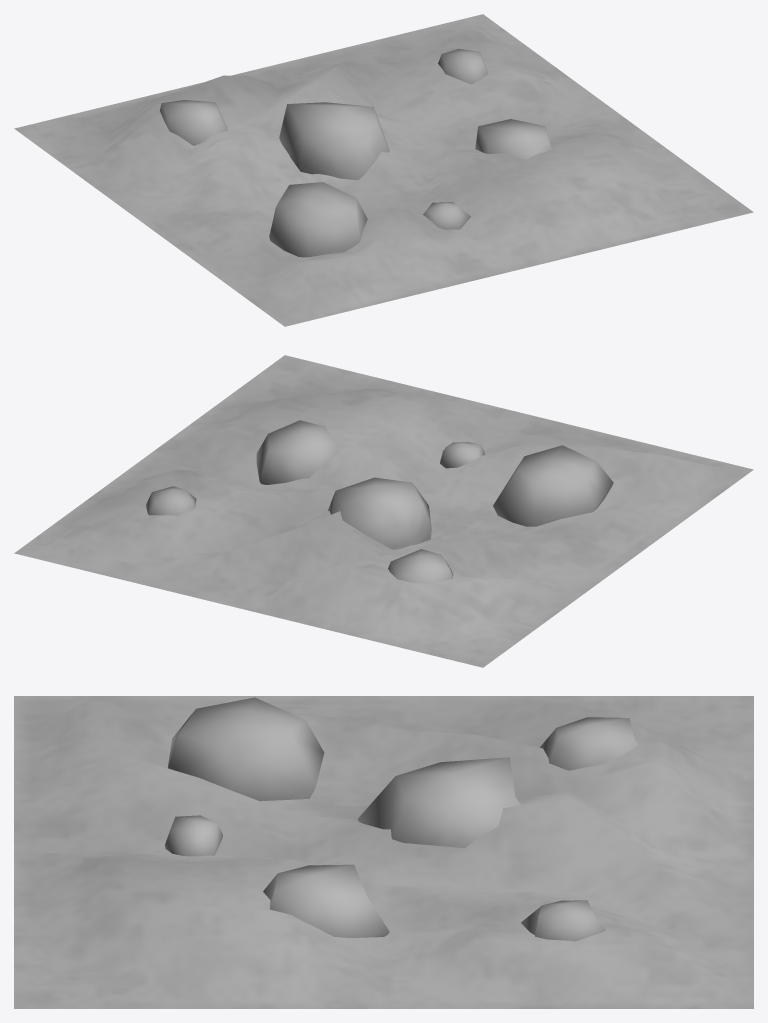
File: m_Tile_Rubble_High.fbx
The picture shows the model from 3 angles, top to bottom: view 1: azimuth 30°, elevation 25°; view 2: azimuth 150°, elevation 25°; view 3: azimuth 270°, elevation 25°; orthographic projection. The views are drawn at different scales.
Parts seen in each view (by area): view 1: m_Tile_Rubble_High; view 2: m_Tile_Rubble_High; view 3: m_Tile_Rubble_High.
Part boxes in pixels (left/top/right/bottom): m_Tile_Rubble_High: left=14, top=14, right=753, bottom=326; m_Tile_Rubble_High: left=14, top=355, right=753, bottom=667; m_Tile_Rubble_High: left=14, top=696, right=753, bottom=1008.
Size of the model in its own units: 100 by 14.45 by 100.
